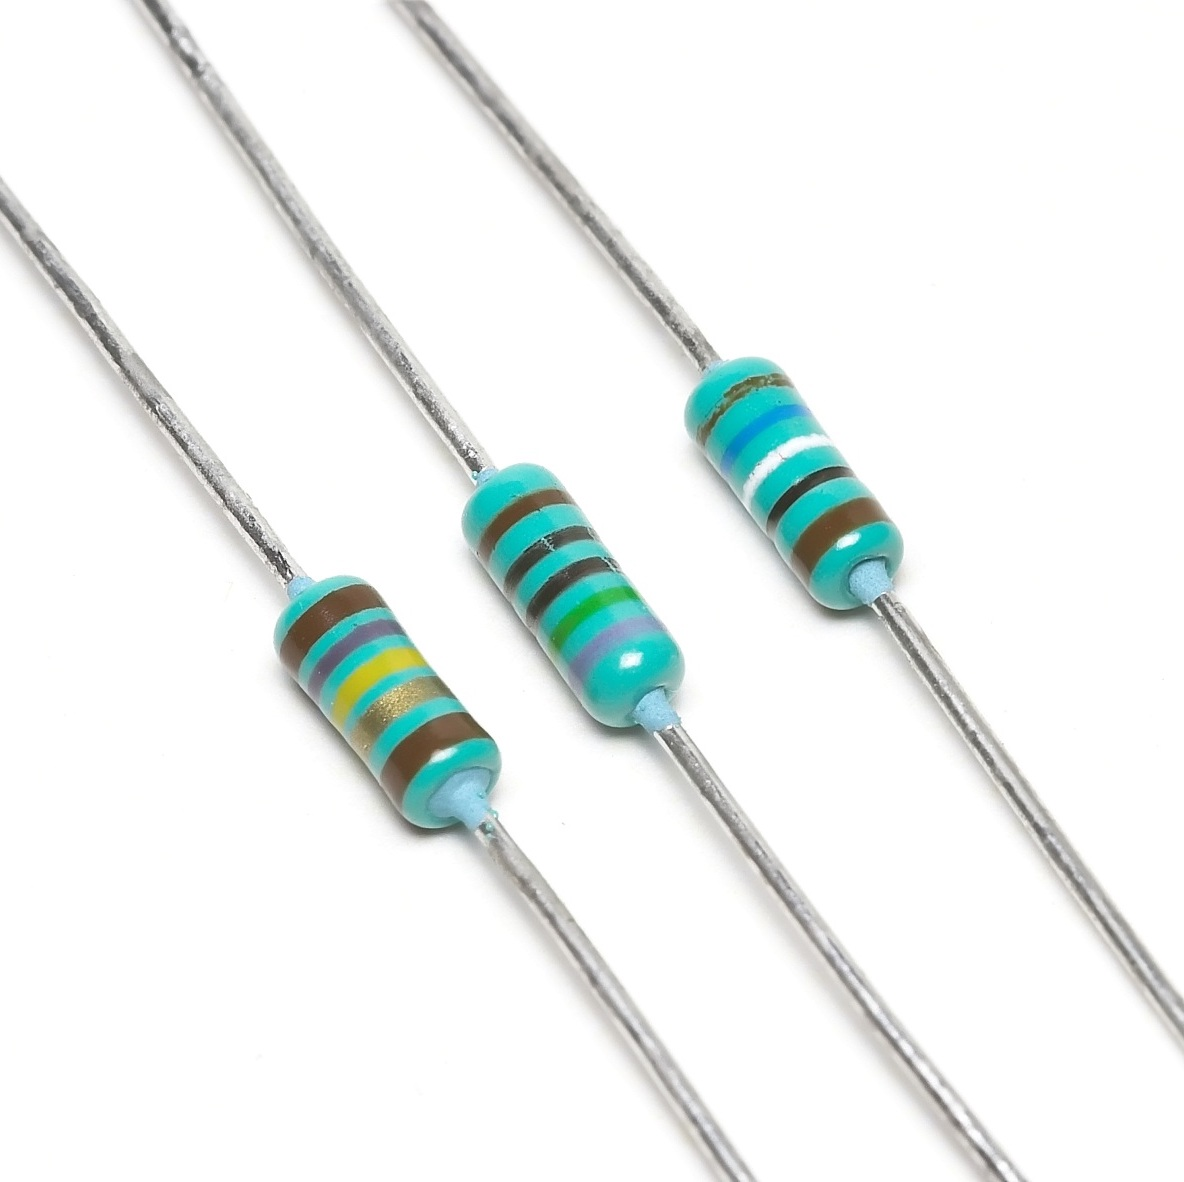Resistor: (460, 461, 688, 731), (271, 574, 503, 831), (682, 354, 906, 616)
